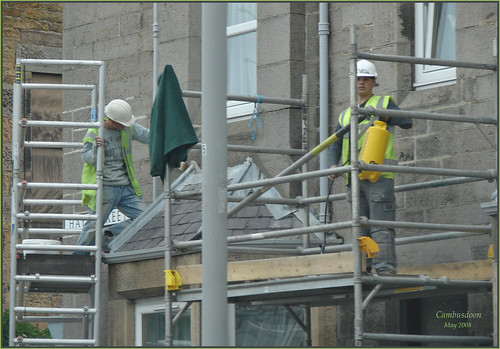person hardhat: (328, 55, 405, 287), (84, 97, 158, 246)
